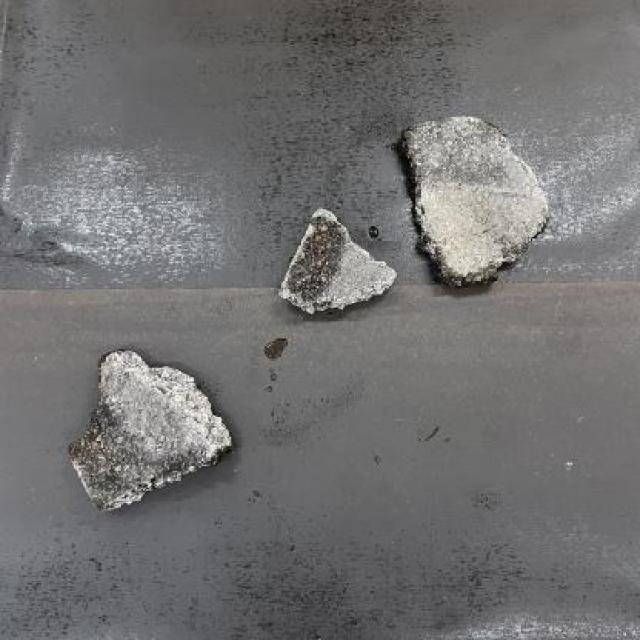Road Debris: (65, 398, 213, 507), (404, 116, 552, 192), (281, 206, 347, 311)
